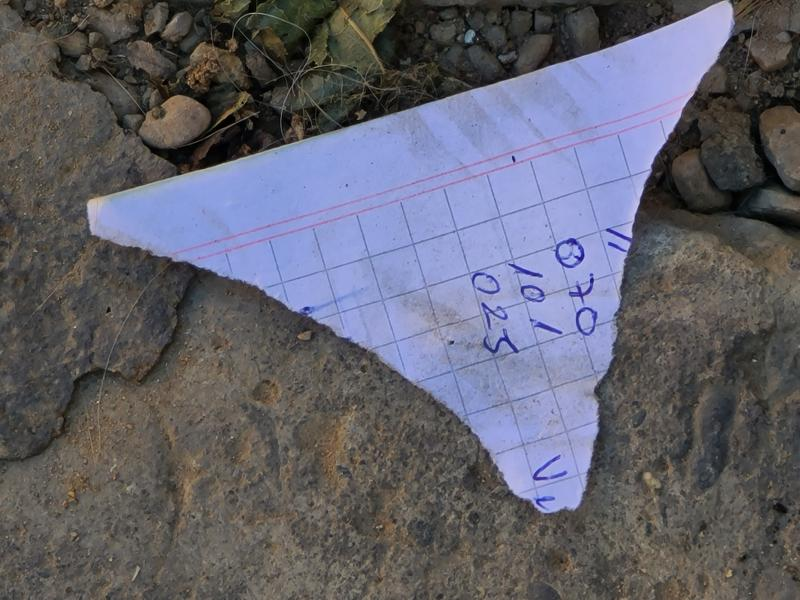papel: (85, 3, 734, 516)
